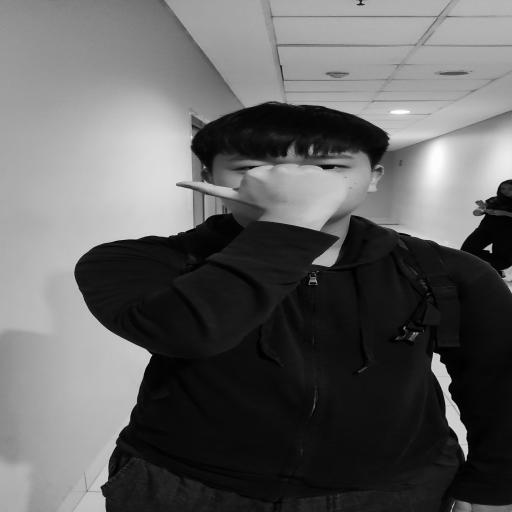back: (158, 150, 409, 238)
